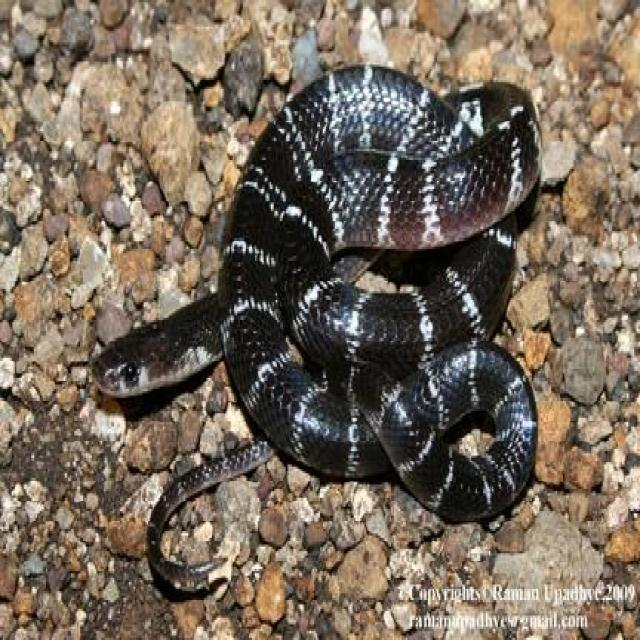Snake: (90, 60, 542, 591)
